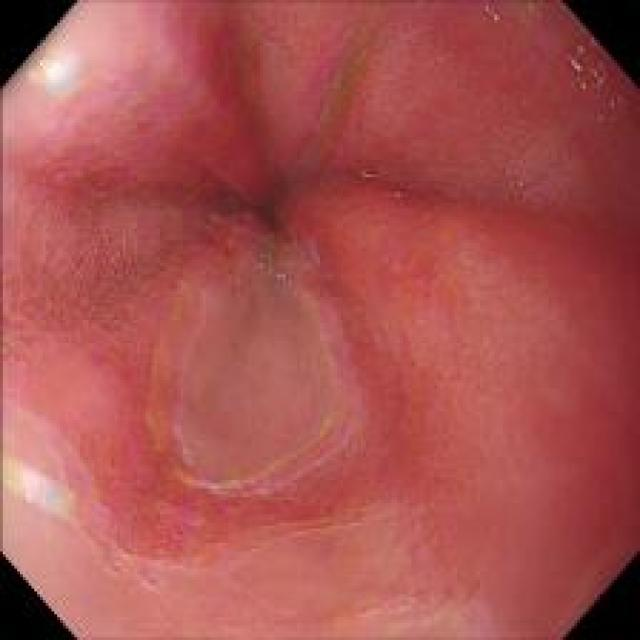blur: (4, 1, 455, 635)
color misalignment: (569, 36, 620, 119), (256, 256, 294, 288), (478, 2, 510, 26), (516, 4, 552, 21)
saturation: (5, 12, 92, 116)
